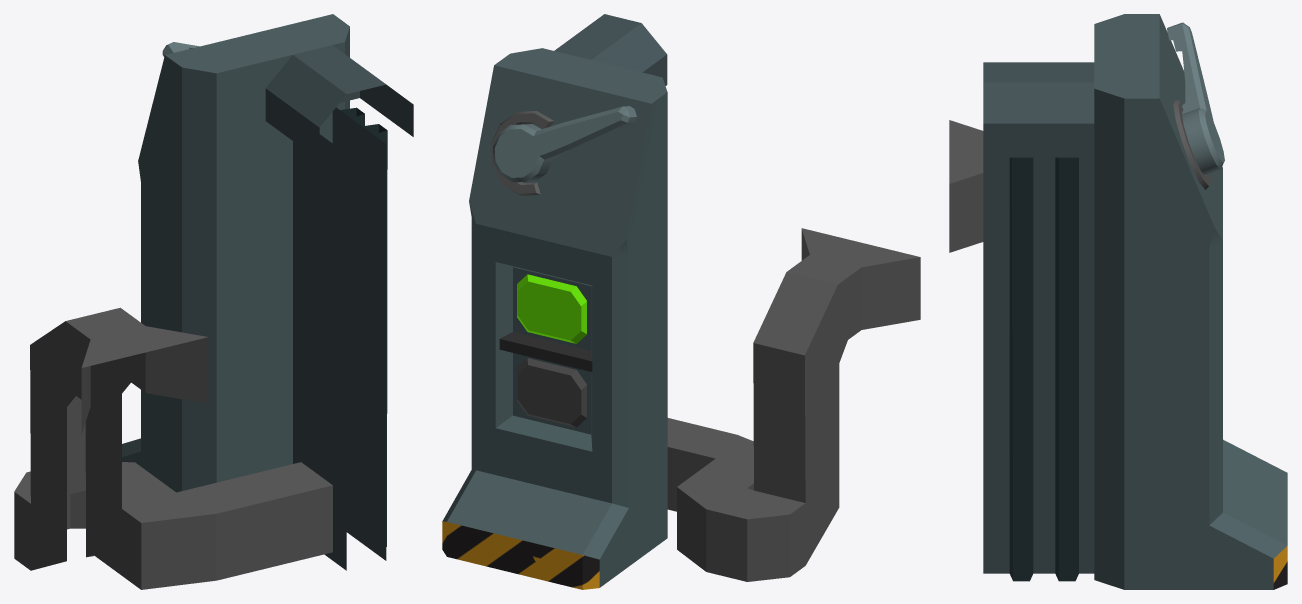
The model's file is SM_switch_down_valid2.fbx.
3 renders of one model, left to right at view 1: azimuth 30°, elevation 25°; view 2: azimuth 150°, elevation 25°; view 3: azimuth 270°, elevation 25°, orthographic. The views are drawn at different scales.
Visible parts, largest first — view 1: SM_switch_down_valid2; view 2: SM_switch_down_valid2; view 3: SM_switch_down_valid2.
Part boxes in pixels (x1,y1,x2,y2): SM_switch_down_valid2: [14, 14, 413, 589]; SM_switch_down_valid2: [442, 14, 920, 589]; SM_switch_down_valid2: [949, 14, 1287, 589].
Bounding box in the file's own units: 115 × 148 × 92.47.
Materials: 1 (1 with a texture image).
